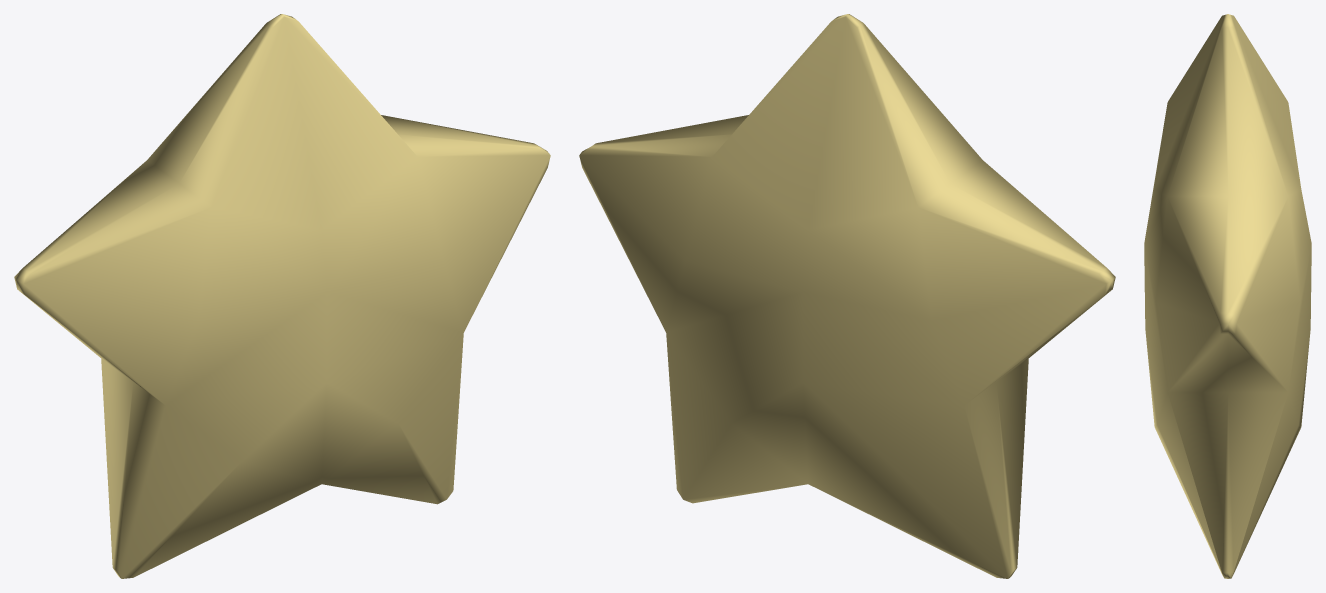
The model's file is KirbyStar.fbx.
3 renders of one model, left to right at view 1: azimuth 30°, elevation 25°; view 2: azimuth 150°, elevation 25°; view 3: azimuth 270°, elevation 25°, orthographic. The views are drawn at different scales.
Visible parts, largest first — view 1: Body; view 2: Body; view 3: Body.
Boxes of the visible parts, x1,y1,x2,y2 form: Body: (14,14,550,578); Body: (579,14,1115,578); Body: (1144,14,1311,578).
Size of the model in its own units: 4.04 by 3.83 by 1.18.
